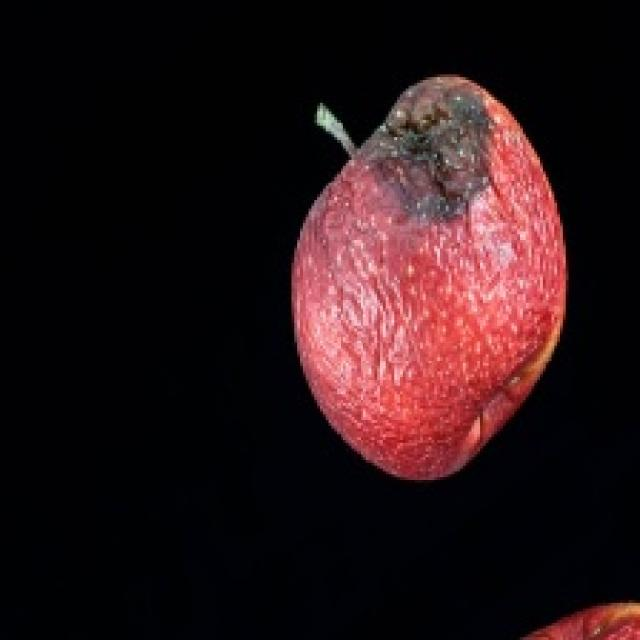rotten_apple: (292, 78, 564, 473)
